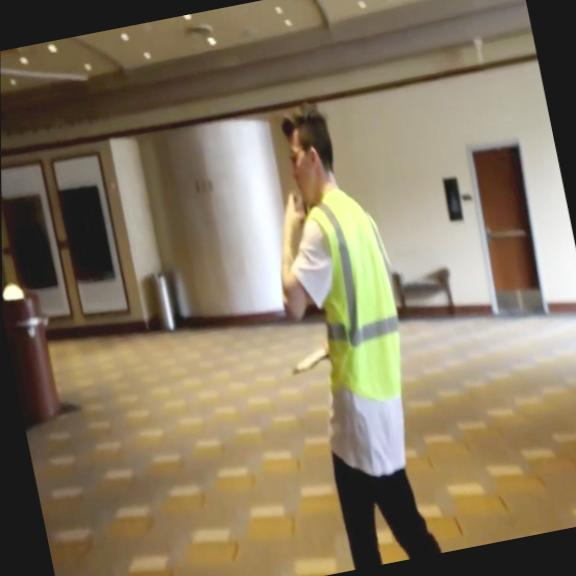safety_vest: (295, 184, 418, 411)
